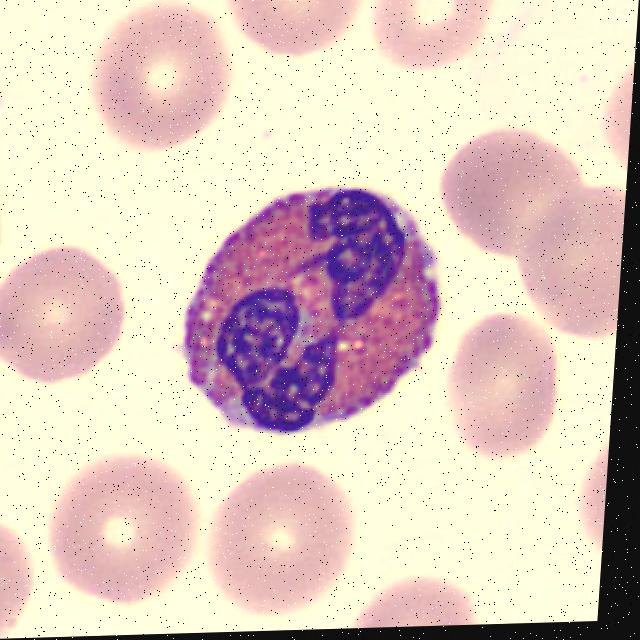eosinophil: (161, 164, 448, 448)
rbc: (45, 462, 200, 604), (214, 468, 361, 613), (99, 3, 231, 147), (512, 172, 627, 334), (444, 133, 589, 252), (0, 248, 125, 381), (446, 316, 555, 454), (370, 0, 487, 78), (215, 0, 369, 58), (347, 574, 484, 628), (596, 42, 636, 186), (569, 430, 610, 561), (0, 534, 37, 640)
